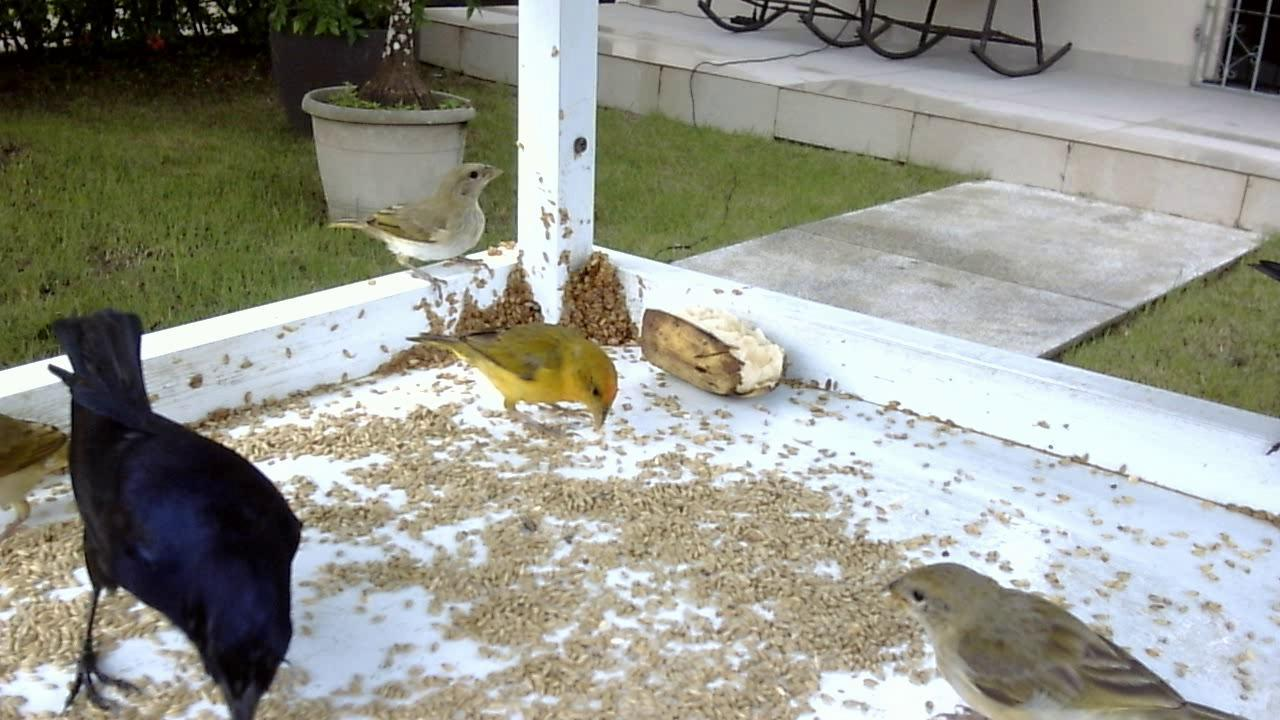canario_do_amazonas: (878, 557, 1227, 720), (321, 159, 506, 327), (408, 319, 622, 436)
chupim: (37, 300, 301, 720)
